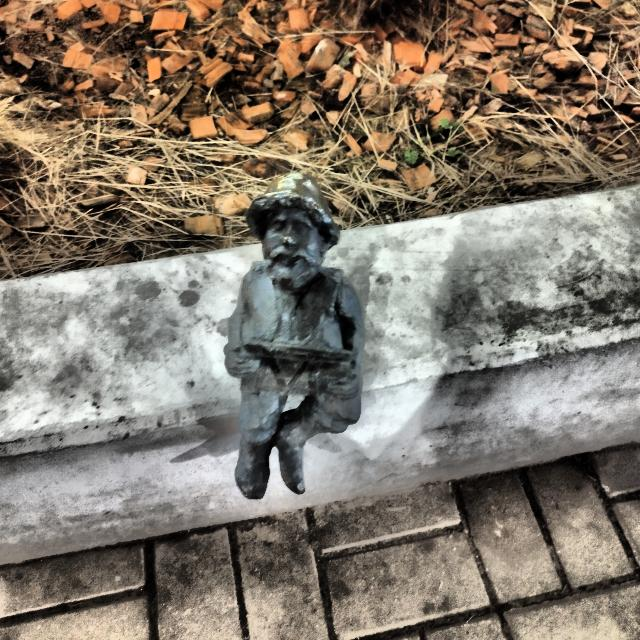Krasnal_Millenniowski: (224, 186, 367, 502)
